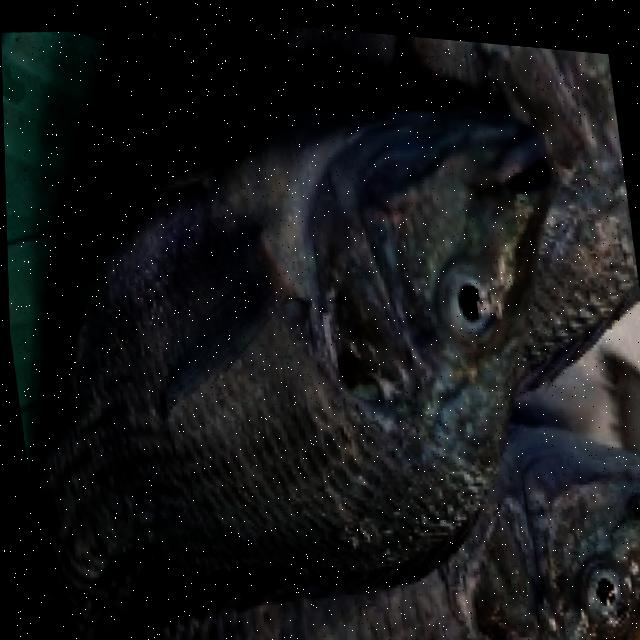Fresh: (30, 99, 491, 619), (423, 242, 504, 345), (566, 544, 627, 620)
